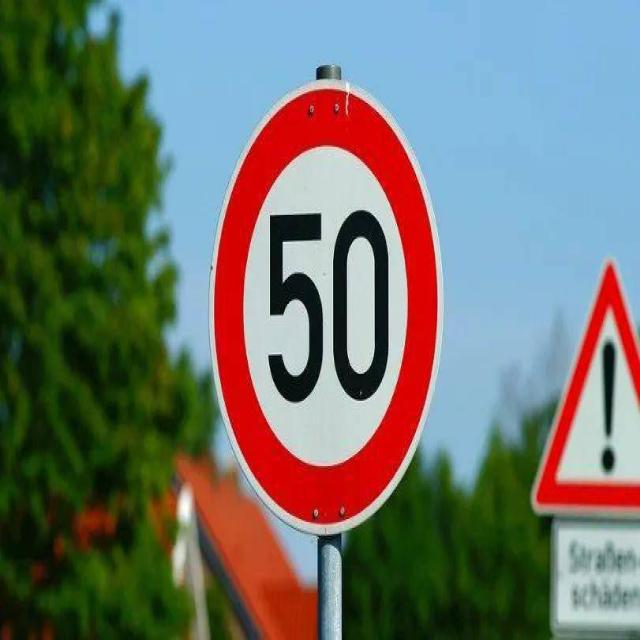speed limit 50: (207, 87, 444, 532)
